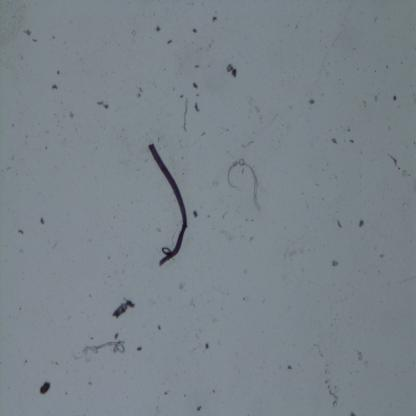Air bubble: (162, 247, 172, 255)
Background material: (82, 341, 126, 357), (323, 373, 340, 408), (111, 297, 135, 319), (182, 95, 190, 133), (38, 380, 51, 396), (312, 342, 324, 358), (226, 64, 238, 78), (353, 346, 363, 362), (387, 153, 398, 167), (95, 99, 109, 109), (241, 140, 254, 148), (336, 218, 343, 230), (135, 344, 144, 353), (330, 259, 339, 268), (187, 298, 196, 307), (401, 200, 409, 210), (175, 283, 185, 291), (137, 86, 143, 99), (221, 210, 229, 219), (348, 409, 358, 416), (252, 105, 260, 113), (402, 168, 408, 178), (194, 101, 199, 113), (39, 215, 45, 225), (357, 219, 364, 227), (113, 332, 120, 340), (51, 83, 58, 91), (372, 96, 378, 105), (331, 137, 338, 144), (25, 29, 32, 36), (289, 250, 297, 256), (191, 26, 197, 34), (248, 236, 256, 242), (192, 80, 198, 88), (68, 111, 74, 119), (196, 403, 201, 412), (392, 94, 398, 101), (192, 210, 198, 217), (378, 252, 384, 259), (295, 22, 300, 30), (163, 390, 169, 396), (166, 38, 172, 44), (207, 213, 212, 220), (31, 38, 38, 43), (131, 29, 136, 36), (205, 342, 209, 350), (213, 14, 217, 22), (208, 41, 212, 49), (310, 98, 314, 106), (18, 228, 23, 234), (211, 388, 216, 394), (242, 269, 248, 274), (349, 139, 355, 144), (200, 132, 206, 137), (195, 63, 199, 70), (288, 364, 292, 370), (158, 324, 162, 330), (156, 26, 160, 32), (346, 128, 350, 133), (6, 166, 11, 170), (10, 123, 14, 128), (57, 70, 60, 76), (44, 146, 48, 150), (196, 93, 199, 98), (53, 35, 56, 40), (413, 142, 416, 146), (386, 64, 388, 70), (25, 134, 28, 138), (388, 126, 390, 131), (365, 103, 367, 108), (243, 297, 245, 301)
Glass filter fibre: (228, 157, 261, 213)
Microfibre: (148, 145, 190, 266)
